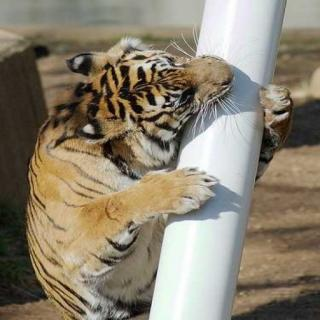Tiger: (21, 28, 273, 320)
